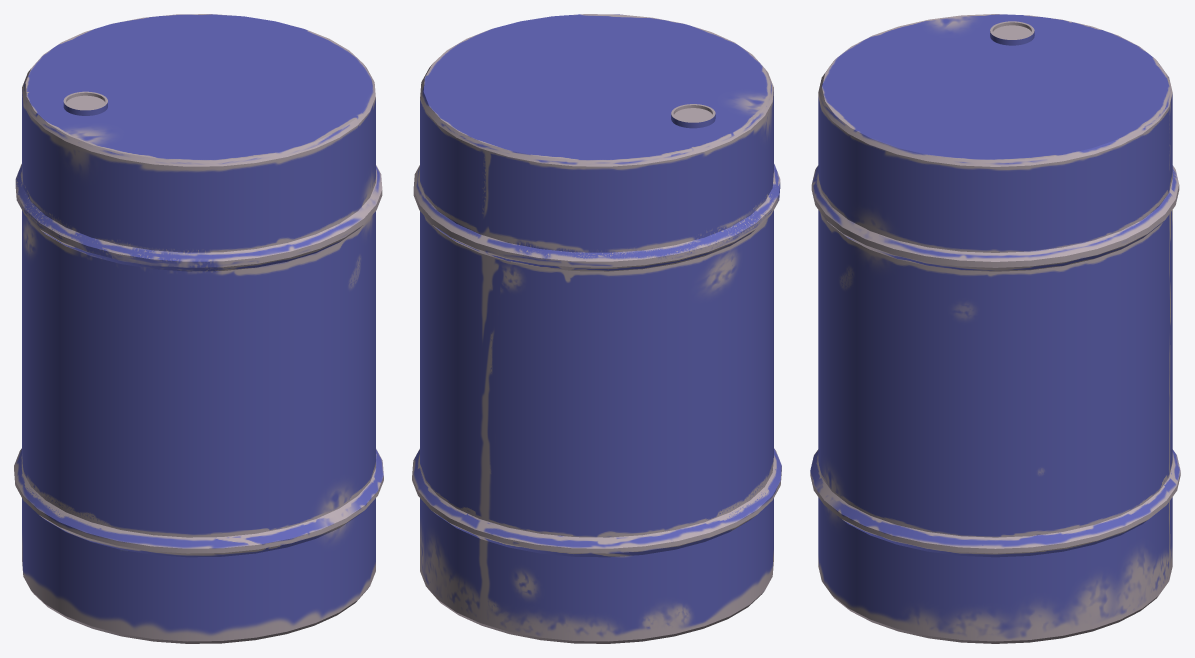
File: Barrel.obj
3 renders of one model, left to right at view 1: azimuth 30°, elevation 25°; view 2: azimuth 150°, elevation 25°; view 3: azimuth 270°, elevation 25°, orthographic.
Visible parts, largest first — view 1: Barrel; view 2: Barrel; view 3: Barrel.
Part boxes in pixels (<box>): Barrel: <box>14,14,383,643</box>; Barrel: <box>412,14,781,643</box>; Barrel: <box>810,14,1180,643</box>.
Size of the model in its own units: 1.15 by 1.67 by 1.15.
